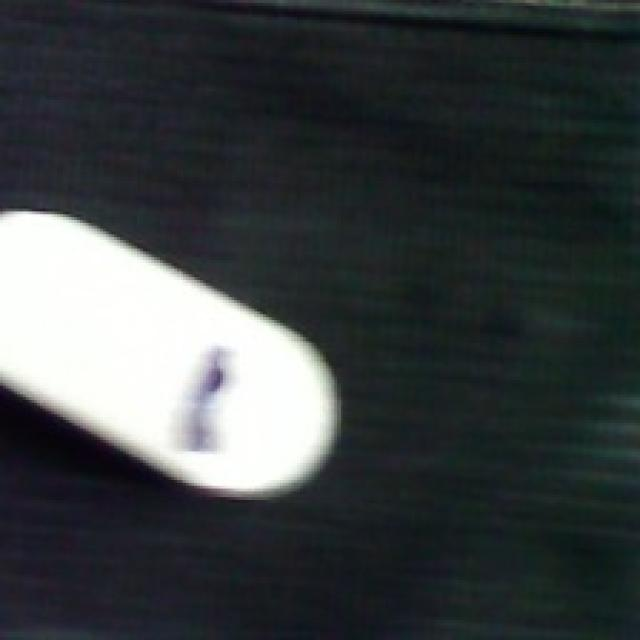defected: (0, 207, 343, 503)
